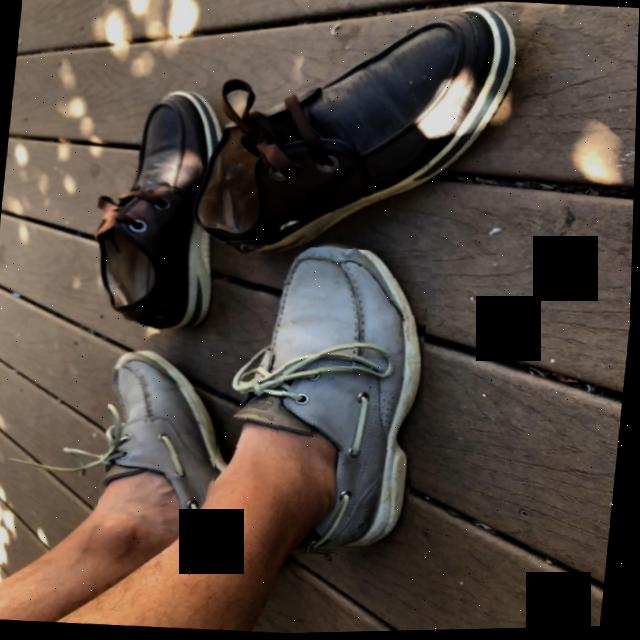shoe: (234, 249, 424, 554), (105, 352, 218, 524)
